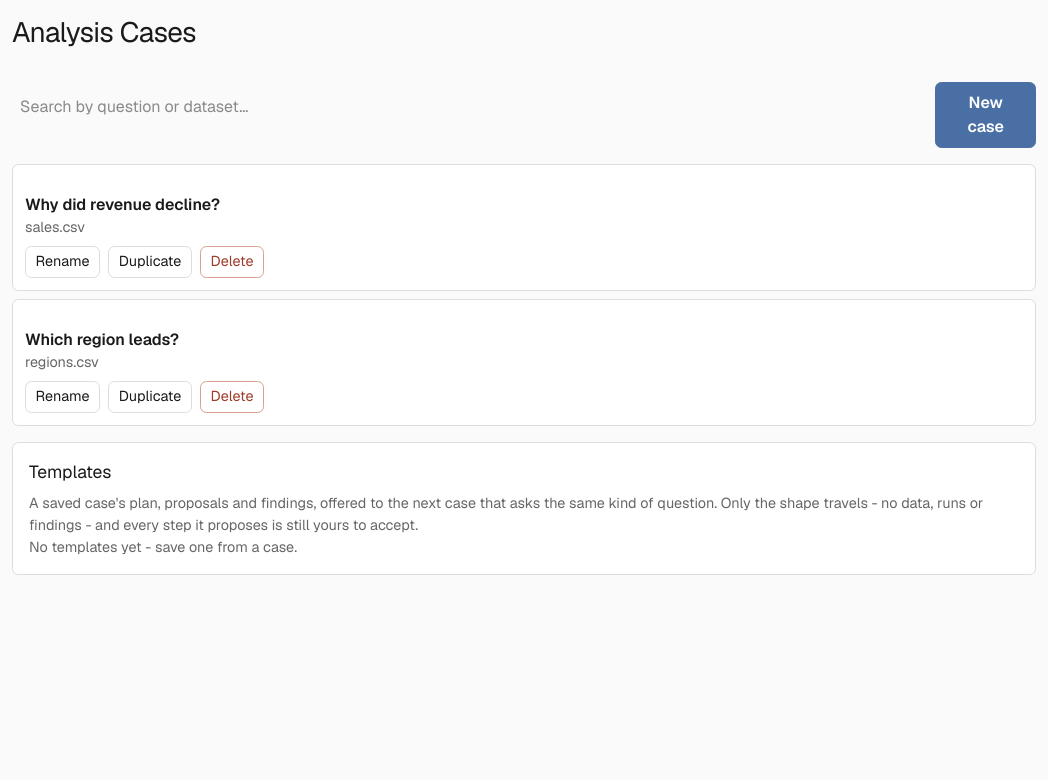
CaseList › duplicates a case and the copy appears
This screenshot has width=1048, height=780.
Check: the text "Why did revenue decline?" is shown, box [25, 193, 220, 217]
Click the button with aria-label "duplicate why did revenue decline" at x=150, y=262, box [108, 246, 192, 278]
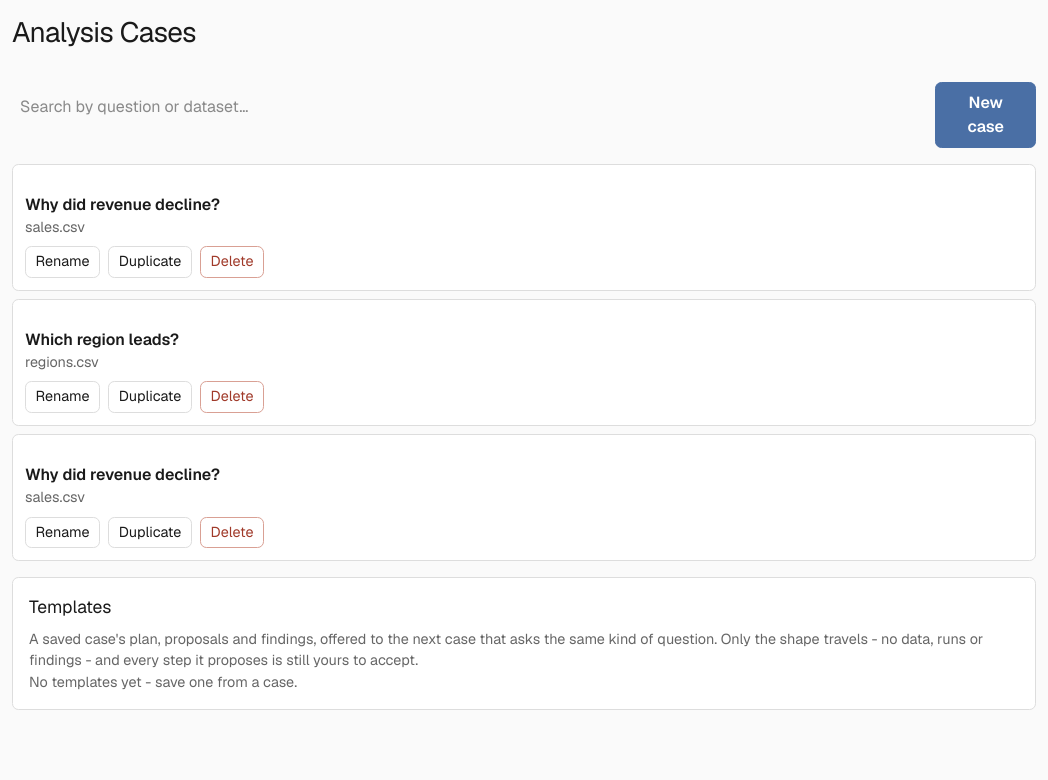
Check: the text "Why did revenue decline?" is shown 2 times, box [25, 193, 220, 217]; [25, 463, 220, 487]
